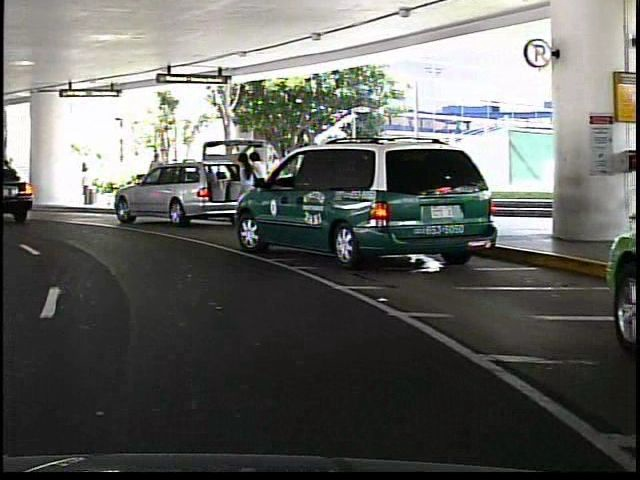person: (143, 149, 163, 203), (232, 148, 252, 196)
